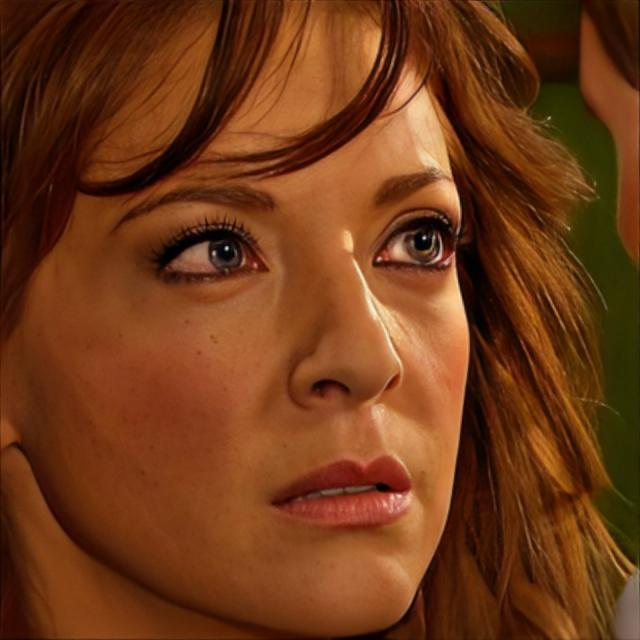disgust: (22, 0, 470, 640)
